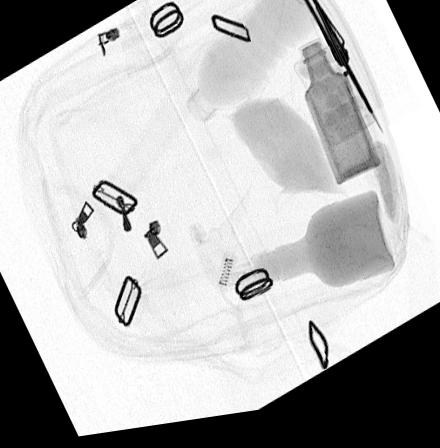Knife: (298, 0, 383, 145)
